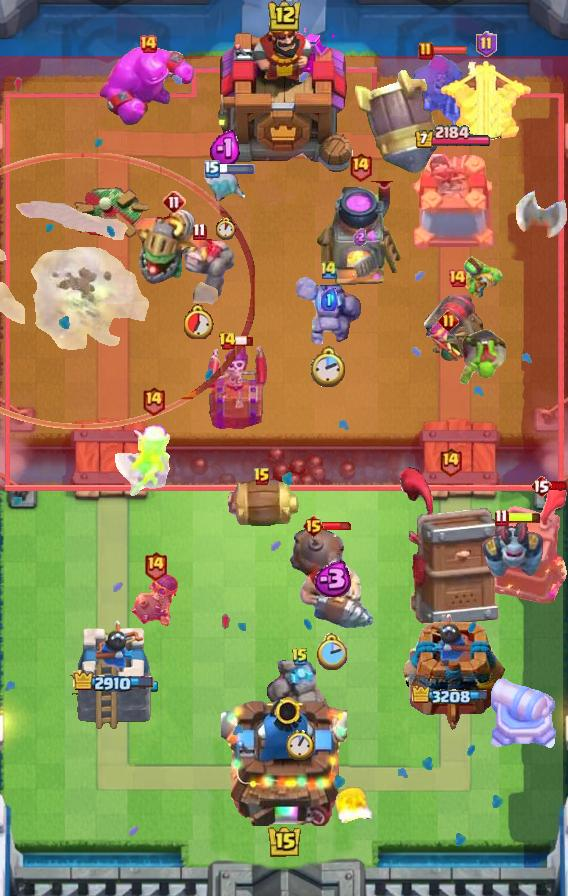bar-level: (459, 326, 509, 386)
bat: (203, 169, 249, 201)
cannon: (428, 321, 468, 373)
clone: (97, 43, 199, 127)
dart-goblin: (400, 466, 500, 628), (490, 486, 568, 606)
electro-spirit: (309, 561, 353, 597), (209, 130, 243, 168), (321, 288, 339, 311), (353, 228, 367, 246)
elixir: (311, 346, 347, 389), (315, 634, 347, 671), (184, 305, 214, 339), (286, 728, 314, 759), (215, 216, 237, 239)
elixir-golem-small: (480, 520, 546, 580)
emote: (506, 511, 542, 525), (432, 45, 468, 56), (218, 164, 256, 174), (322, 521, 354, 531), (234, 335, 254, 347), (550, 480, 568, 492)
giant-snowball: (455, 256, 503, 300)
goblin-ball: (130, 573, 180, 627)
hunter: (315, 181, 405, 289)
king-tower: (211, 7, 357, 181), (221, 690, 347, 826)
lava-pup: (437, 61, 535, 143)
night-witch: (133, 207, 215, 285)
phoenix-small: (410, 51, 466, 133)
poison: (113, 419, 193, 499)
queen-tower: (401, 613, 505, 731), (70, 616, 158, 731), (405, 154, 501, 256)
royal-ghost: (0, 153, 256, 429)
royal-giant: (514, 172, 568, 240)
royal-giant-evolution: (423, 291, 491, 361)
royal-recruit: (487, 671, 559, 753)
selected: (72, 670, 155, 695), (414, 126, 492, 151), (412, 686, 494, 708)
skeleton-king-bar: (206, 343, 268, 429)
text: (348, 151, 373, 182), (142, 385, 167, 416), (144, 550, 169, 581), (437, 447, 462, 477), (162, 190, 186, 214), (303, 514, 326, 538), (476, 31, 497, 57), (530, 474, 552, 498), (437, 309, 458, 331), (319, 259, 339, 280), (138, 34, 158, 54), (447, 268, 467, 288), (218, 331, 237, 351), (253, 467, 271, 487), (291, 647, 309, 667), (418, 41, 434, 61), (204, 160, 220, 178), (193, 223, 208, 242), (495, 509, 509, 527)
the-log: (224, 480, 300, 530)
valkyrie: (328, 783, 380, 827)
valkyrie-evolution: (160, 235, 238, 299), (296, 274, 362, 346), (267, 660, 333, 722)
wizard: (287, 523, 375, 631)
x-bow: (354, 69, 438, 176)
